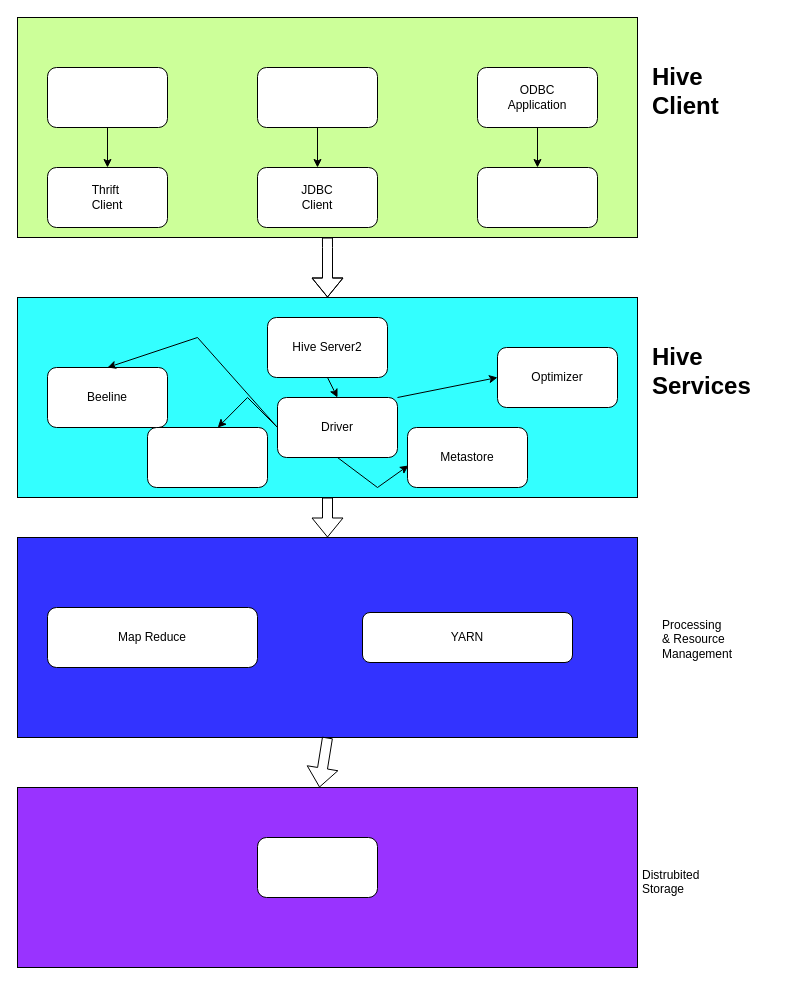
This 805x985 diagram has some shape labels left out. Each missing label, with the centre of its shape:
"Complier" goes at pixel 207 457.
"HDFS" goes at pixel 317 867.
"JDBC Application" goes at pixel 317 97.
"ODBC Client" goes at pixel 537 197.
"Thrift Application" goes at pixel 107 97.
